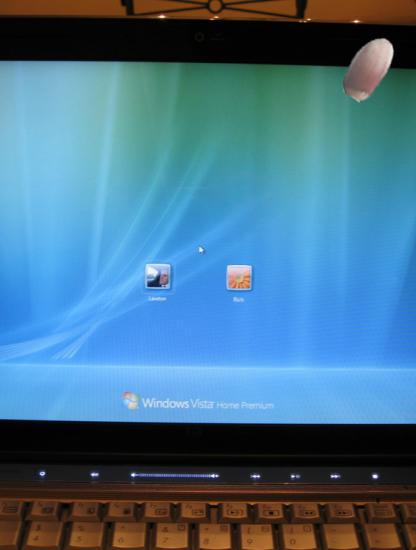Hazelnut: (334, 32, 404, 102)
